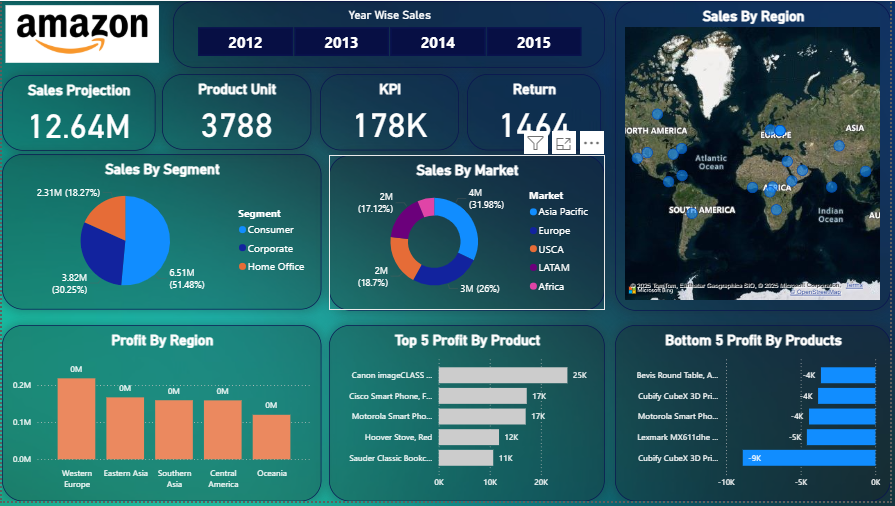

This screenshot's page, from the dashboard's own definition file:
{"tool":"powerbi","page":{"name":"Amazon Dashboard","canvas":[1280,720],"ordinal":0},"visuals":[{"type":"image","box":[0,0,230.9,95.6],"z":0},{"type":"slicer","title":"Year Wise Sales","fields":{"Values":["Orders.Year"]},"box":[245.6,0,622.1,95.6],"z":1000},{"type":"card","title":"Sales Projection","fields":{"Values":["Sum(Orders.Sales)"]},"box":[0,105.9,220.6,108.8],"z":2000},{"type":"card","title":"Product Unit","fields":{"Values":["Count(Orders.Product Name)"]},"box":[230.9,104.4,214.7,108.8],"z":3000},{"type":"card","title":"KPI","fields":{"Values":["Sum(Orders.Quantity)"]},"box":[457.4,104.4,200,110.3],"z":4000},{"type":"card","title":"Return","fields":{"Values":["Count(Orders.Ship Date)"]},"box":[669.1,104.4,192.6,110.3],"z":5000},{"type":"pieChart","title":"Sales By Segment","fields":{"Category":["Orders.Segment"],"Y":["Sum(Orders.Sales)"]},"box":[0,220.6,460.3,223.5],"z":6000},{"type":"donutChart","title":"Sales By Market","fields":{"Y":["Sum(Orders.Sales)"],"Category":["Orders.Market"]},"box":[470.6,222.1,397.1,223.5],"z":7000},{"type":"columnChart","title":"Profit By Region","fields":{"Y":["Sum(Orders.Profit)"],"Category":["Orders.Region"]},"box":[0,466.2,460.3,254.4],"z":8000},{"type":"clusteredBarChart","title":"Top 5 Profit By Product","fields":{"Category":["Orders.Product Name"],"Y":["Sum(Orders.Profit)"]},"box":[470.6,466.2,397.1,254.4],"z":9000},{"type":"clusteredBarChart","title":"Bottom 5 Profit By Products ","fields":{"Category":["Orders.Product Name"],"Y":["Sum(Orders.Profit)"]},"box":[882.4,466.2,397.1,254.4],"z":10000},{"type":"map","title":"Sales By Region","fields":{"Category":["Orders.Region"]},"box":[882.4,0,397.1,445.6],"z":11000}]}

Visuals, with their boxes in screenshot pixels (x1, y1, x2, y2), scaled from the page's 1280x720 canvas onto the 895x506 screenshot:
image: crop(0, 0, 161, 67)
"Year Wise Sales" slicer: crop(172, 0, 607, 67)
"Sales Projection" card: crop(0, 74, 154, 151)
"Product Unit" card: crop(161, 73, 312, 150)
"KPI" card: crop(320, 73, 460, 151)
"Return" card: crop(468, 73, 603, 151)
"Sales By Segment" pieChart: crop(0, 155, 322, 312)
"Sales By Market" donutChart: crop(329, 156, 607, 313)
"Profit By Region" columnChart: crop(0, 328, 322, 505)
"Top 5 Profit By Product" clusteredBarChart: crop(329, 328, 607, 505)
"Bottom 5 Profit By Products " clusteredBarChart: crop(617, 328, 894, 505)
"Sales By Region" map: crop(617, 0, 894, 313)
